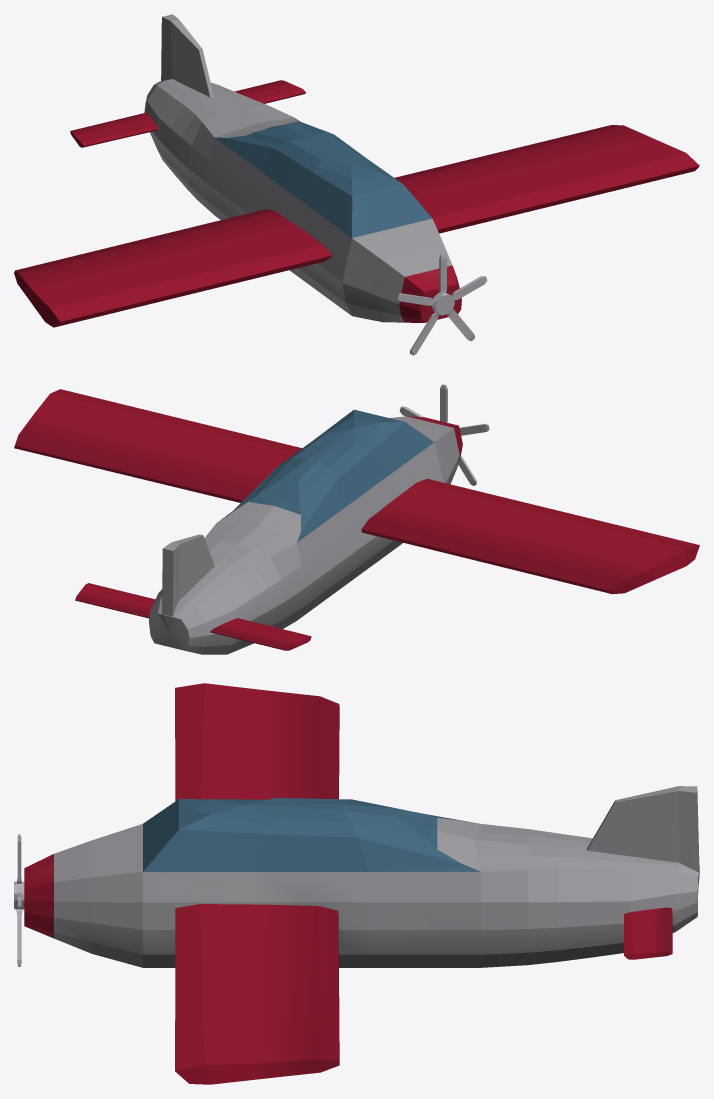
The model's file is Aviao.fbx.
3 views of the same model, one above another, from view 1: azimuth 30°, elevation 25°; view 2: azimuth 150°, elevation 25°; view 3: azimuth 270°, elevation 25° (orthographic). The views are drawn at different scales.
Parts seen in each view (by area): view 1: Aviao; view 2: Aviao; view 3: Aviao.
Part boxes in pixels (box(x1,y1,x2,y2)): Aviao: box(14, 14, 699, 355); Aviao: box(14, 384, 699, 654); Aviao: box(14, 683, 699, 1084).
Bounding box in the file's own units: 2171 × 426 × 1636.
